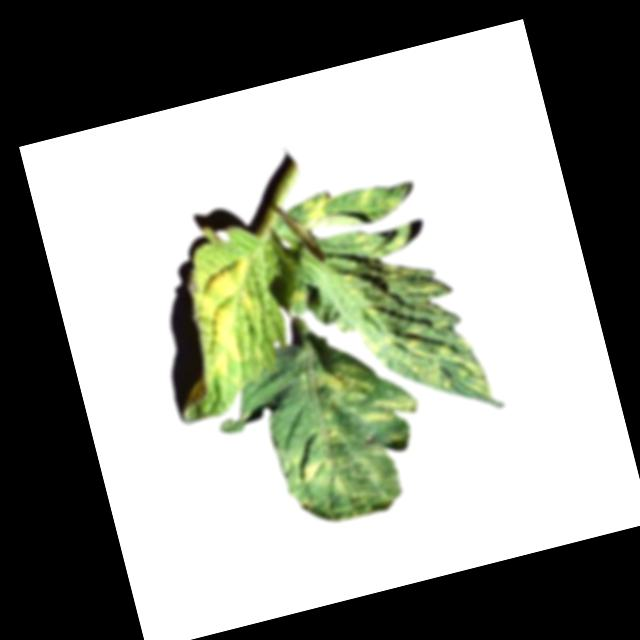Leaf_Mold: (320, 205, 494, 430), (187, 257, 277, 383), (313, 351, 419, 437), (289, 449, 346, 509), (299, 197, 331, 228)
